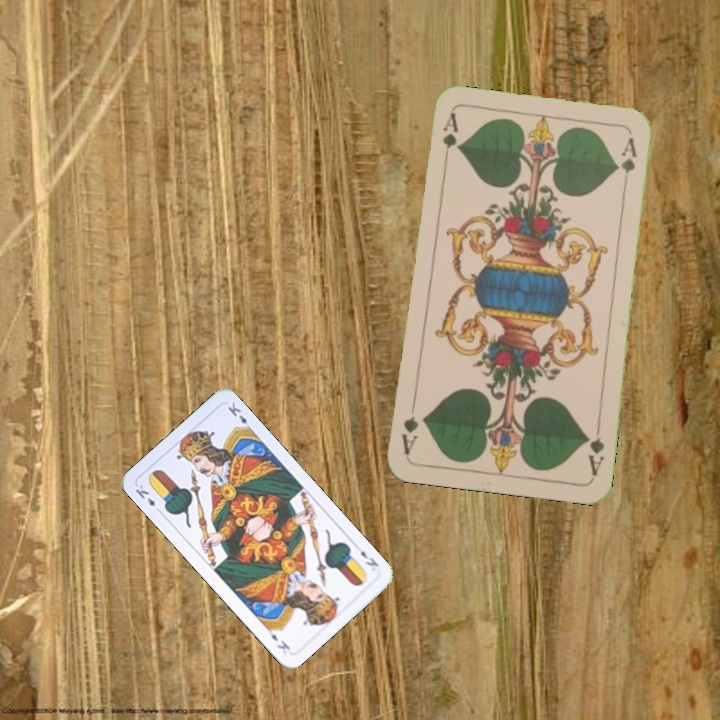EK: (131, 480, 164, 516), (356, 546, 381, 569)
GA: (582, 420, 607, 478), (438, 109, 461, 169)
